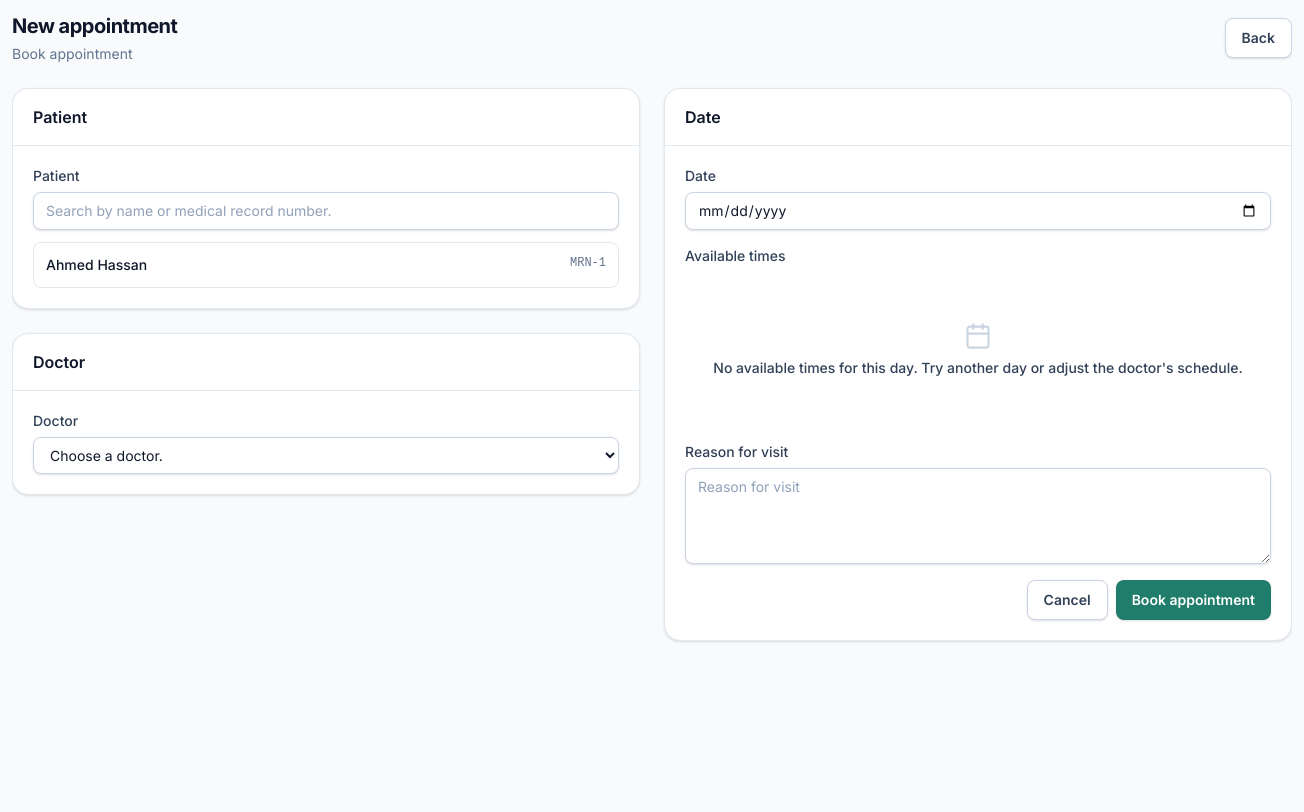
Test case: AppointmentBookingPage › requires a patient, doctor and slot
Click the button "Book appointment".
click(1193, 600)  # box [1116,580,1271,620]
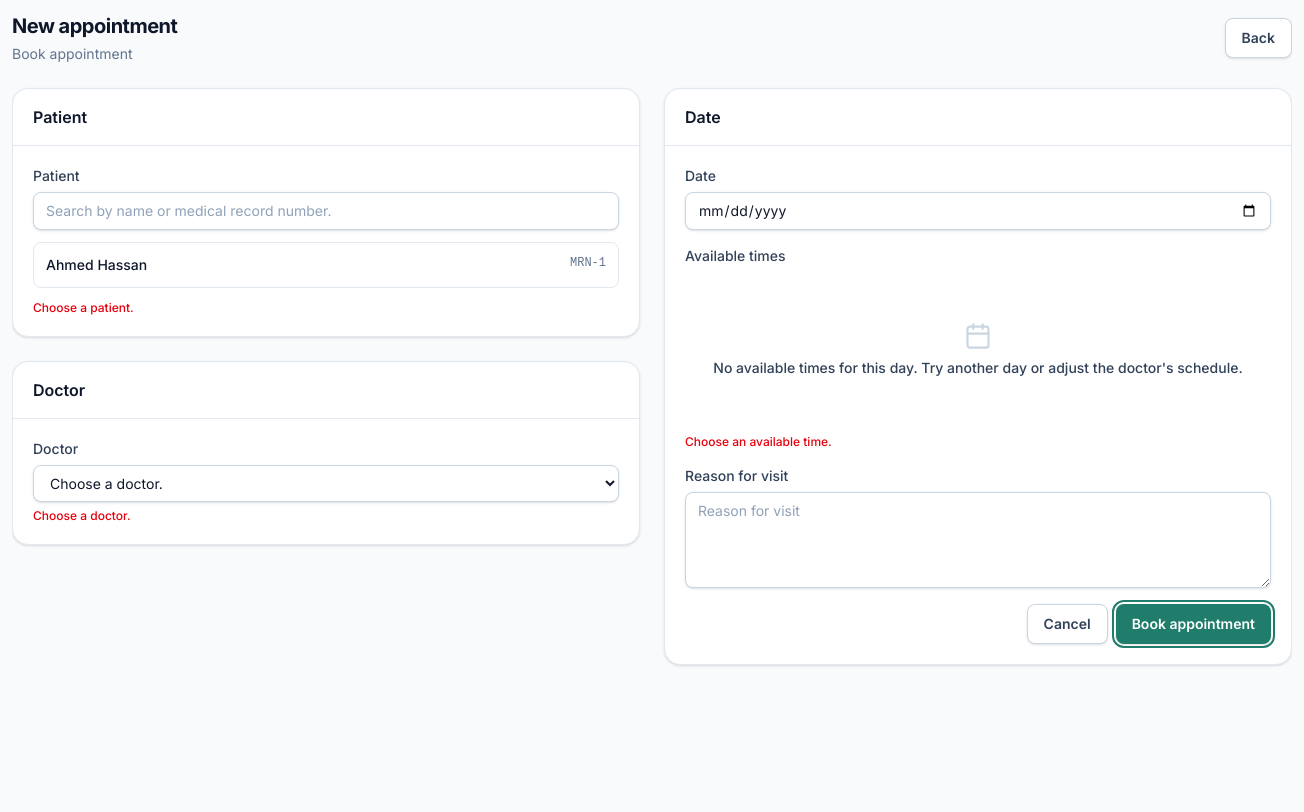
Result: the text "Choose an available time." is shown at [685,434,832,449]
Result: the text "Choose a doctor." is shown 2 times
Result: the text "Choose a patient." is shown at [33,300,134,315]
